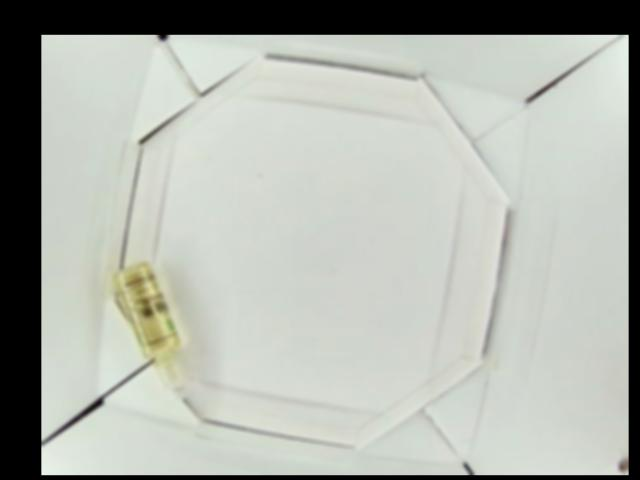Bottle: (112, 264, 192, 401)
